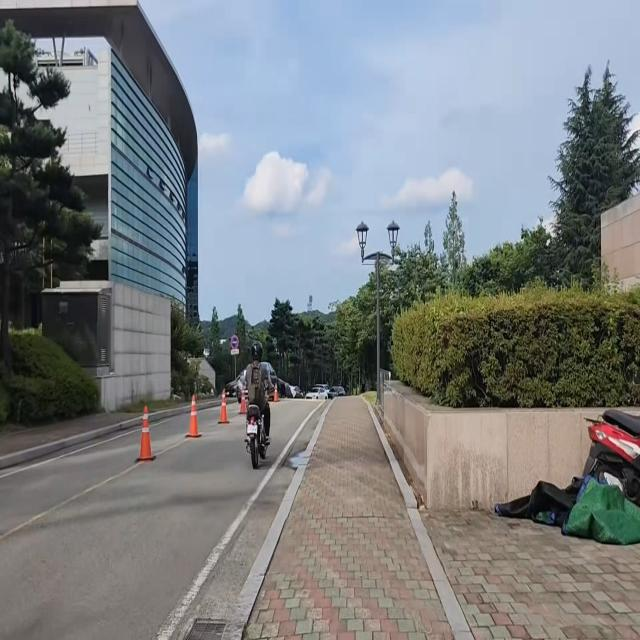obstacle: (578, 396, 640, 526), (237, 327, 278, 470), (133, 391, 158, 473)
road: (0, 403, 326, 640)
sidewalk: (222, 399, 640, 640), (0, 410, 150, 468)
